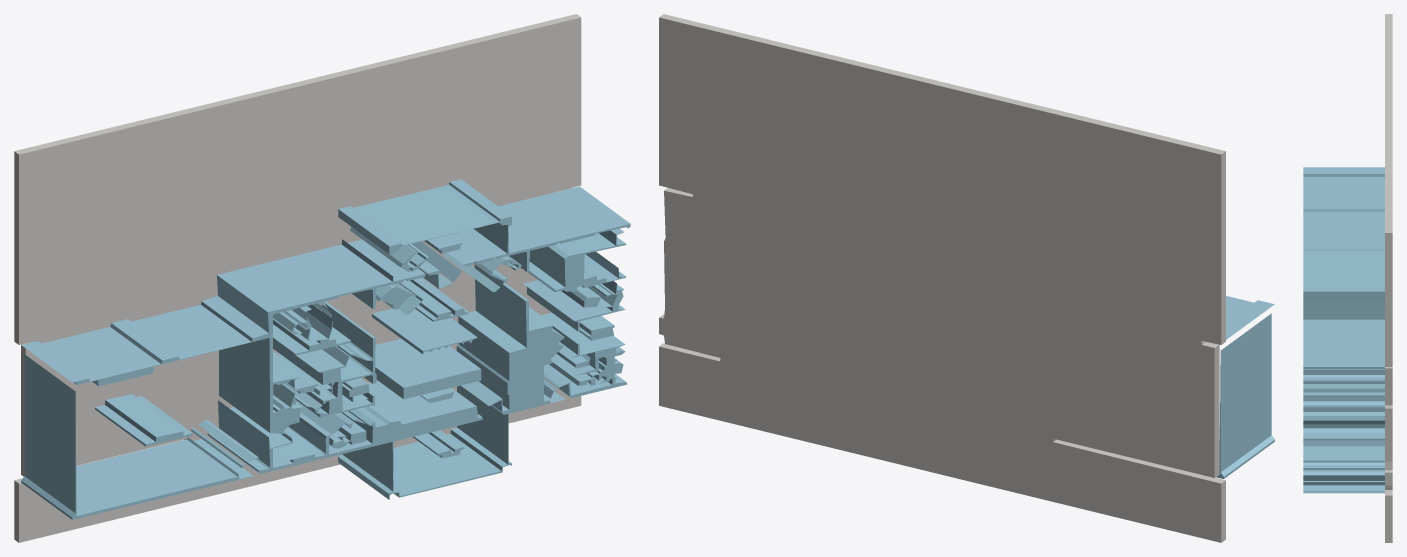
The picture shows the model from 3 angles, left to right: view 1: azimuth 30°, elevation 25°; view 2: azimuth 150°, elevation 25°; view 3: azimuth 270°, elevation 25°; orthographic projection. The views are drawn at different scales.
Parts seen in each view (by area): view 1: world; view 2: world; view 3: world.
Part boxes in pixels (left/top/right/bottom): world: left=14, top=14, right=630, bottom=542; world: left=659, top=14, right=1274, bottom=542; world: left=1303, top=14, right=1392, bottom=542.
Bounding box in the file's own units: 10.23 × 6.75 × 1.76.
